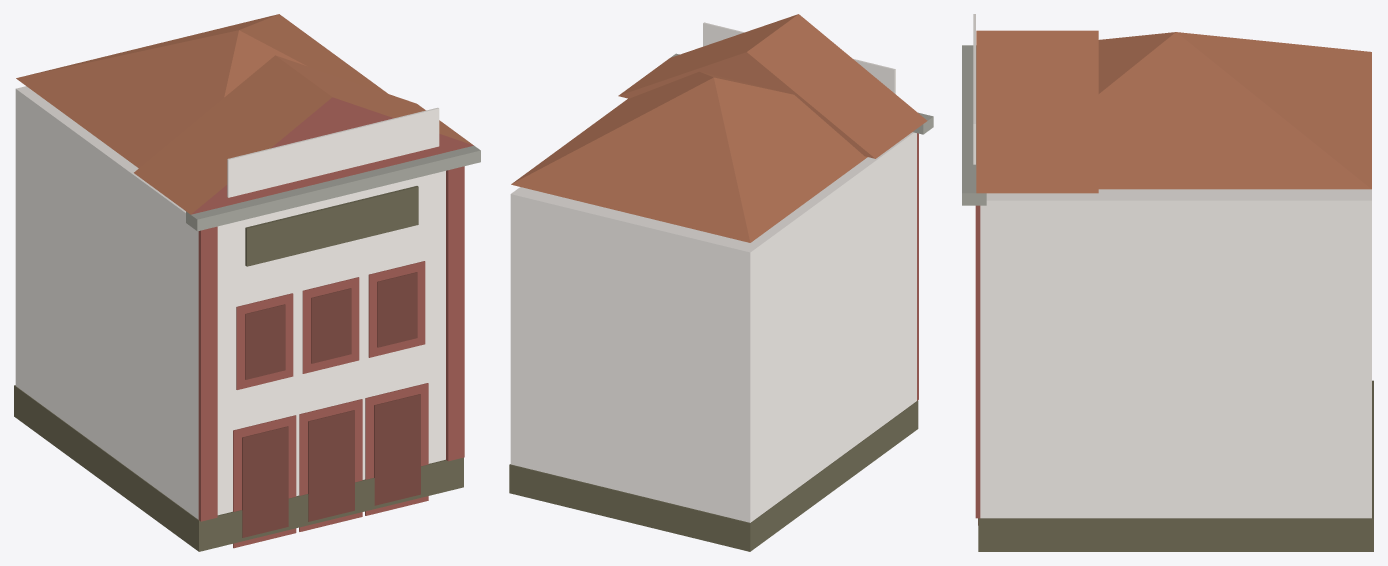
The model's file is SM_KitRemate_v0_LOD1.fbx.
3 views of the same model, side by side, from view 1: azimuth 30°, elevation 25°; view 2: azimuth 150°, elevation 25°; view 3: azimuth 270°, elevation 25° (orthographic). The views are drawn at different scales.
Visible parts, largest first — view 1: SM_bloques.kit_remate_v0_LOD1; view 2: SM_bloques.kit_remate_v0_LOD1; view 3: SM_bloques.kit_remate_v0_LOD1.
Part boxes in pixels (bbox=[...]): SM_bloques.kit_remate_v0_LOD1: bbox=[14, 14, 480, 551]; SM_bloques.kit_remate_v0_LOD1: bbox=[509, 14, 933, 551]; SM_bloques.kit_remate_v0_LOD1: bbox=[962, 14, 1373, 551].
Size of the model in its own units: 8.58 by 12.39 by 10.1.
